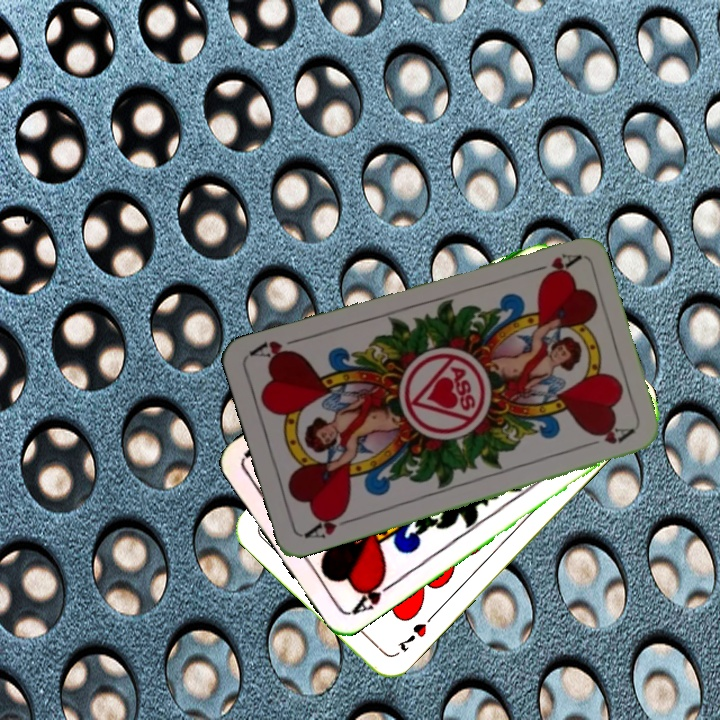H7: (393, 618, 430, 655)
HA: (346, 571, 398, 618), (300, 506, 358, 542), (524, 249, 582, 281)
